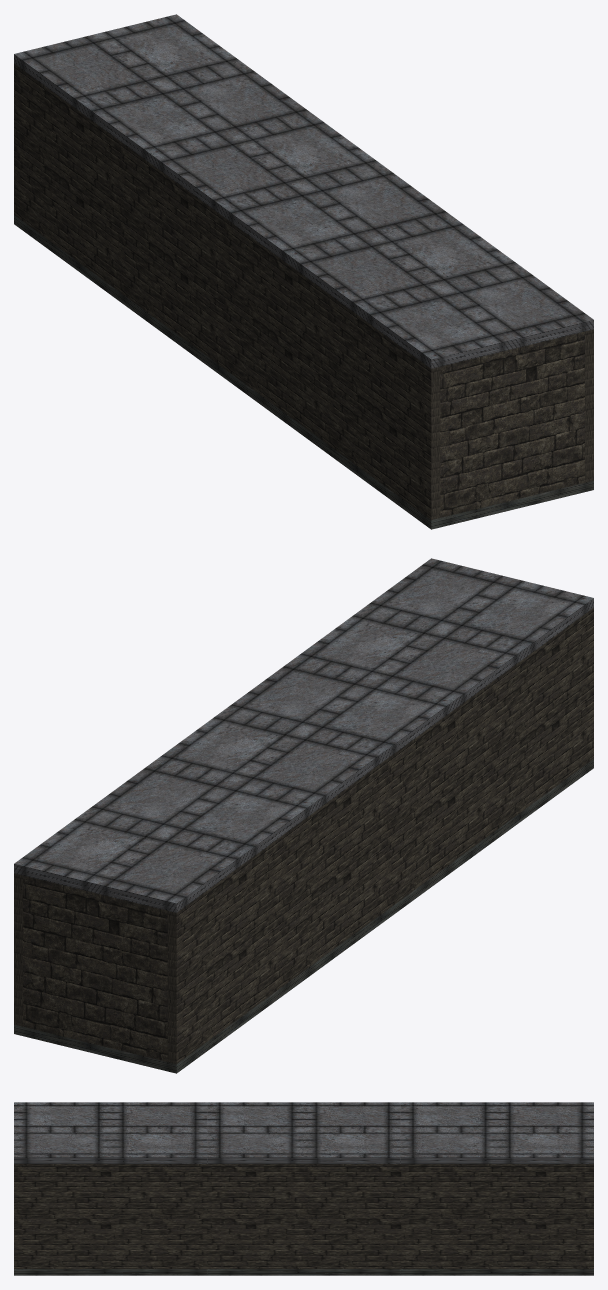
The model's file is longhall.fbx.
3 views of the same model, one above another, from view 1: azimuth 30°, elevation 25°; view 2: azimuth 150°, elevation 25°; view 3: azimuth 270°, elevation 25° (orthographic). The views are drawn at different scales.
Parts seen in each view (by area): view 1: Roof, Opening4, Opening1, Floor, Wall2, Opening2, Wall1; view 2: Roof, Opening4, Opening3, Floor, Wall2, Opening2; view 3: Opening2, Roof, Floor.
Boxes of the visible parts, x1,y1,x2,y2 form: Roof: [14, 14, 593, 368]; Opening4: [14, 63, 440, 519]; Opening1: [440, 331, 584, 517]; Floor: [14, 215, 593, 529]; Wall2: [431, 367, 440, 519]; Opening2: [585, 329, 593, 482]; Wall1: [585, 329, 593, 481]; Roof: [14, 558, 593, 912]; Opening4: [167, 607, 593, 1063]; Opening3: [23, 875, 167, 1061]; Floor: [14, 759, 593, 1073]; Wall2: [167, 911, 176, 1063]; Opening2: [14, 873, 22, 1026]; Opening2: [14, 1164, 593, 1268]; Roof: [14, 1102, 593, 1163]; Floor: [14, 1269, 593, 1275].
Size of what is drawn, in the model's own units: 900 by 900 by 4000.
